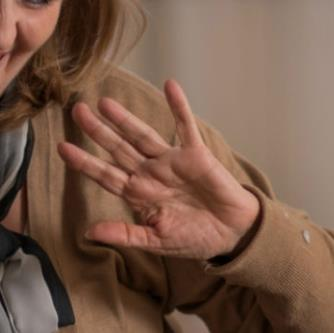down: (55, 80, 238, 259)
